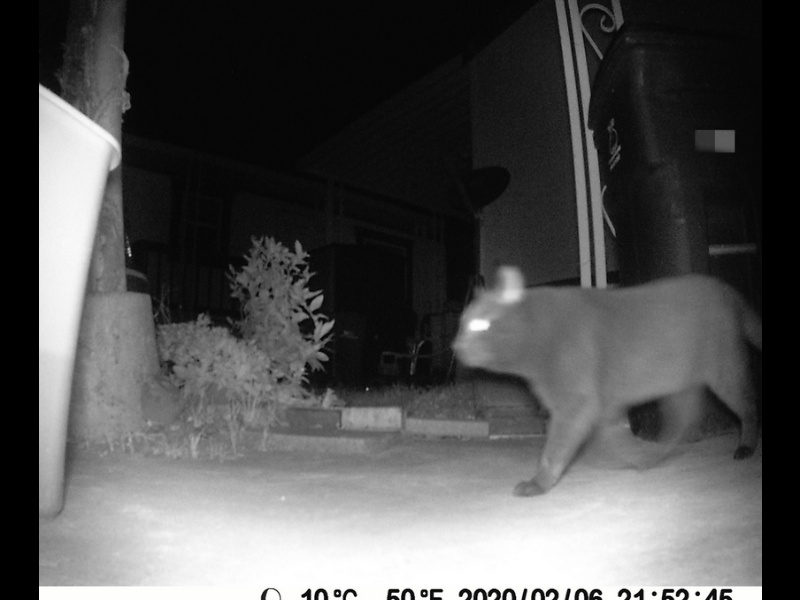cat: (446, 261, 761, 502)
